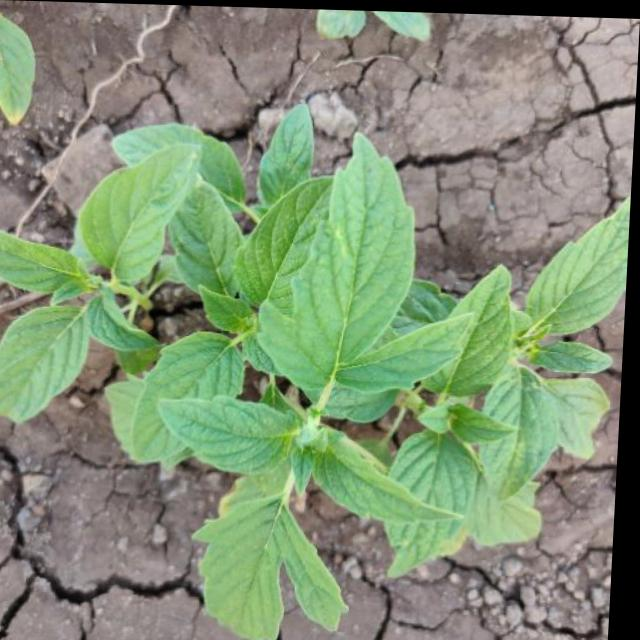crop: (0, 120, 626, 620)
